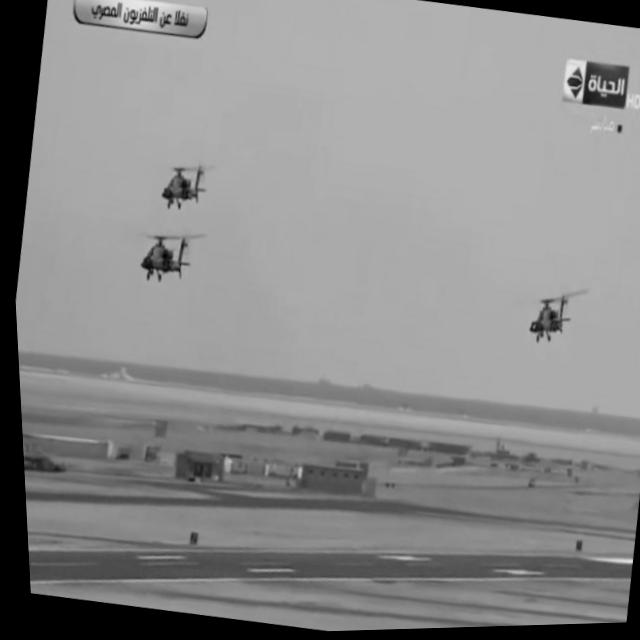helikopter: (501, 261, 596, 373), (116, 220, 211, 313), (140, 138, 225, 226)
